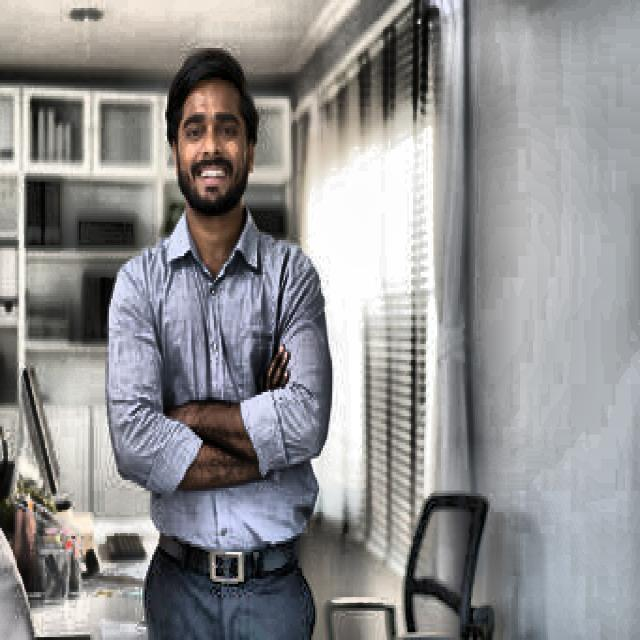Human: (88, 44, 357, 640)
